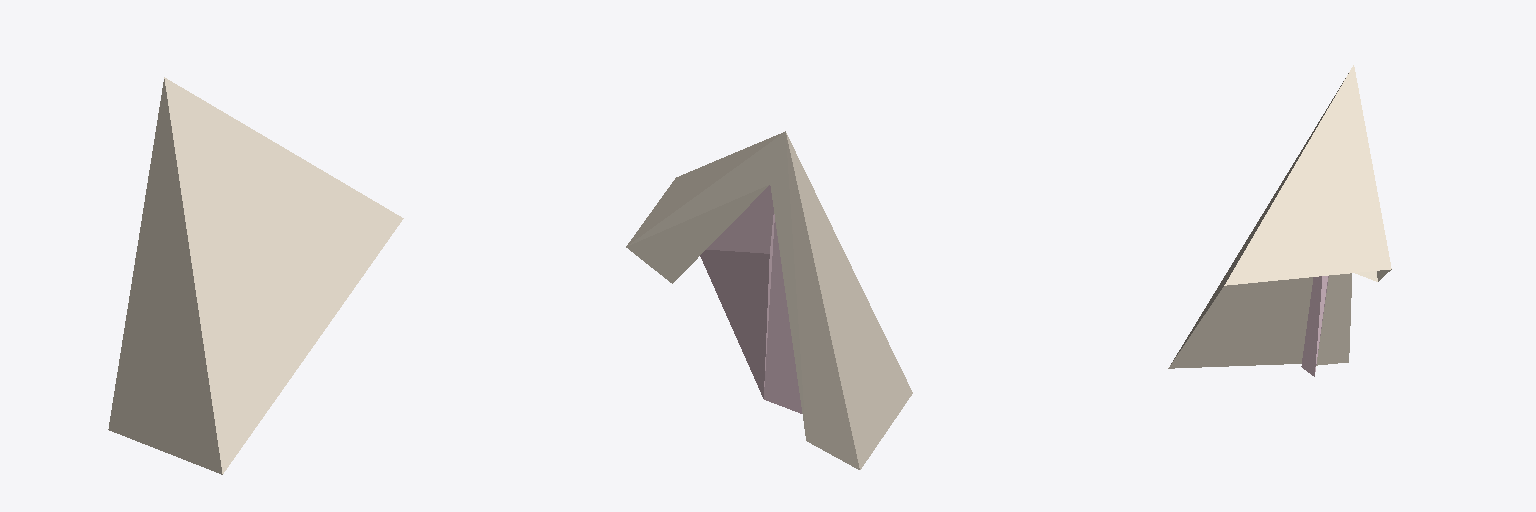
The model's file is Left Cat Ear.obj.
3 views of the same model, side by side, from view 1: azimuth 30°, elevation 25°; view 2: azimuth 150°, elevation 25°; view 3: azimuth 270°, elevation 25° (orthographic).
Visible parts, largest first — view 1: Left Cat Ear; view 2: Left Cat Ear; view 3: Left Cat Ear.
Boxes of the visible parts, box(x1,y1,x2,y2) form: Left Cat Ear: box(108, 77, 403, 474); Left Cat Ear: box(626, 131, 912, 469); Left Cat Ear: box(1168, 65, 1391, 376).
Size of the model in its own units: 0.2818 by 0.3707 by 0.2275.